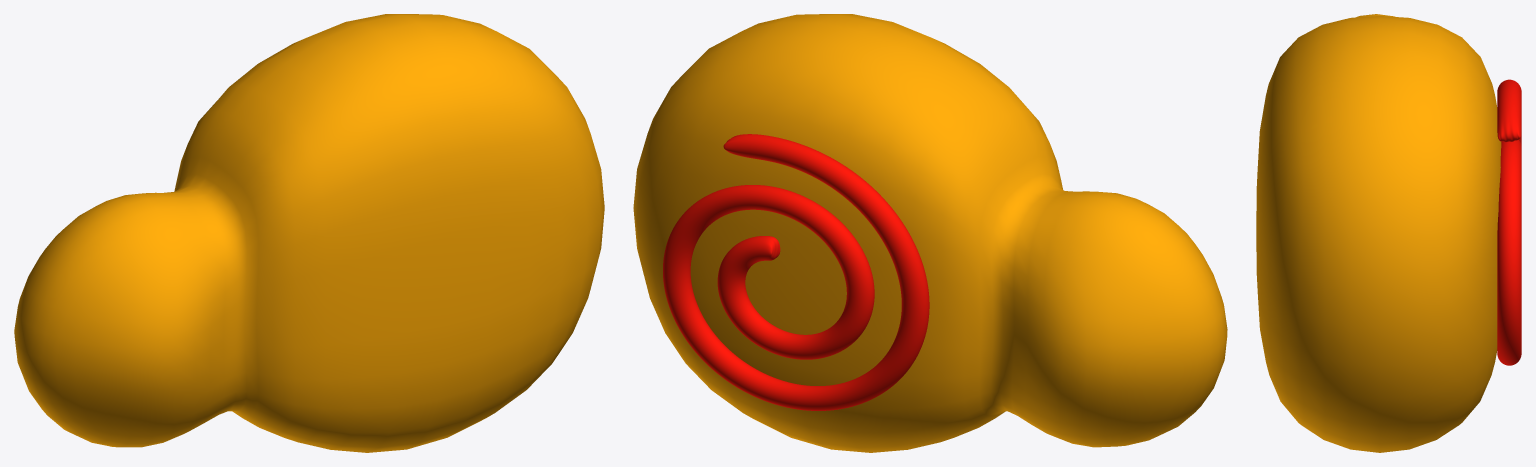
File: cloud.fbx
3 renders of one model, left to right at view 1: azimuth 30°, elevation 25°; view 2: azimuth 150°, elevation 25°; view 3: azimuth 270°, elevation 25°, orthographic. The views are drawn at different scales.
Visible parts, largest first — view 1: Cube.021; view 2: Cube.021; view 3: Cube.021.
Part boxes in pixels (x1,y1,x2,y2): Cube.021: (14,14,604,452); Cube.021: (633,14,1227,452); Cube.021: (1256,14,1521,452).
Size of the model in its own units: 3618 by 2485 by 1519.
